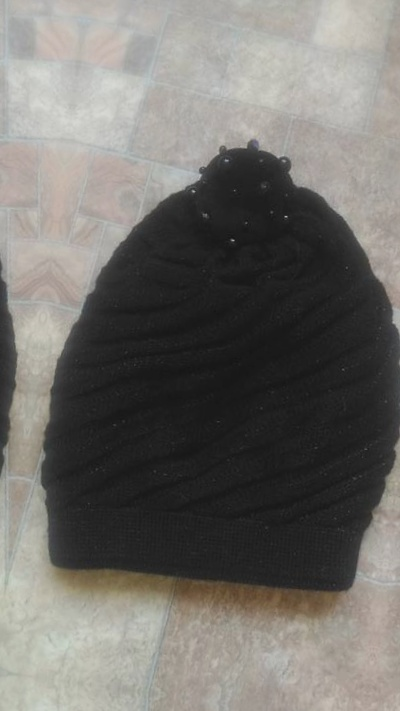Hat: (17, 96, 400, 631), (0, 45, 62, 580), (388, 148, 400, 683)
